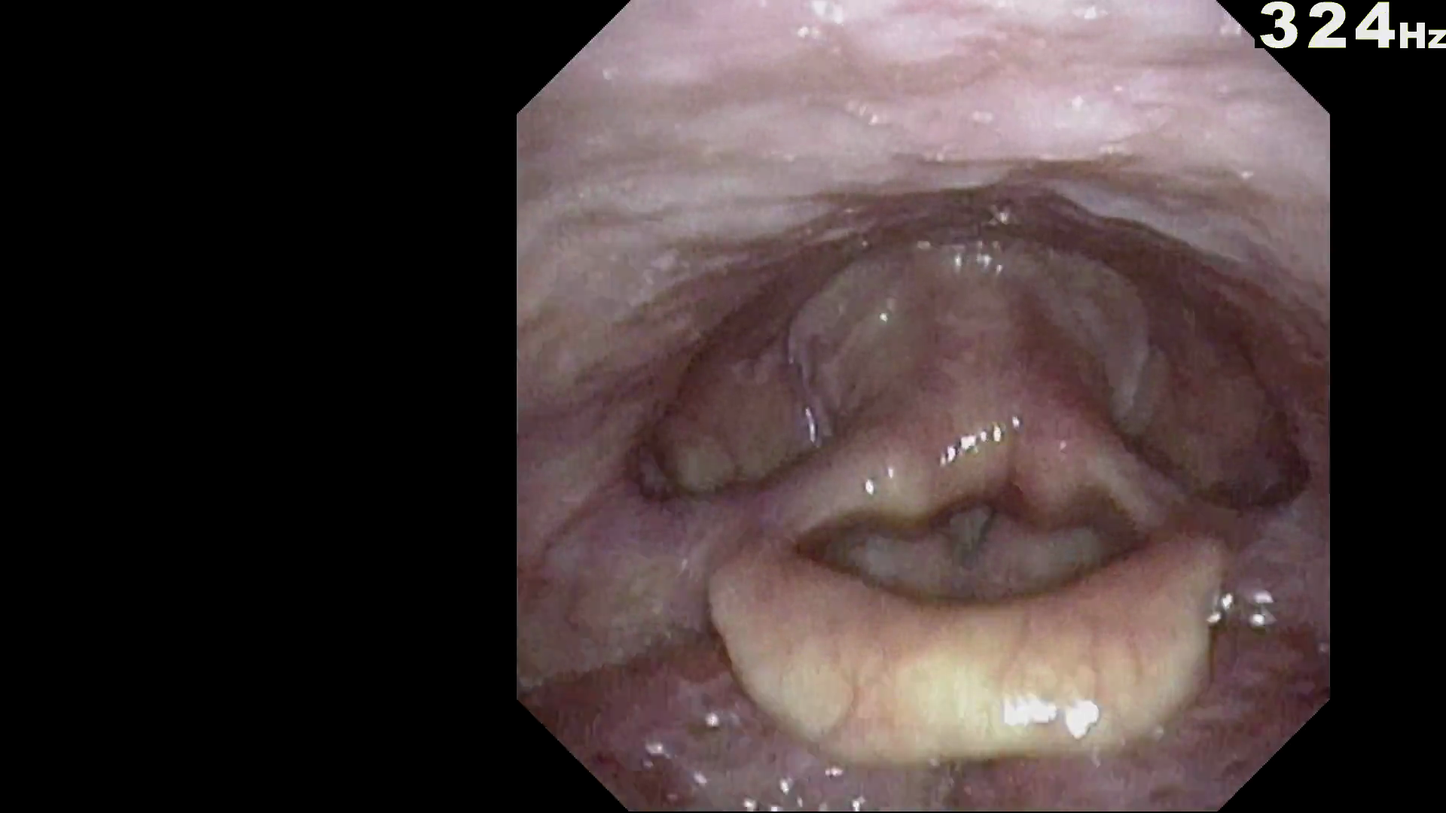epiglottis: (705, 519, 1237, 755)
trachea: (927, 486, 1006, 567)
